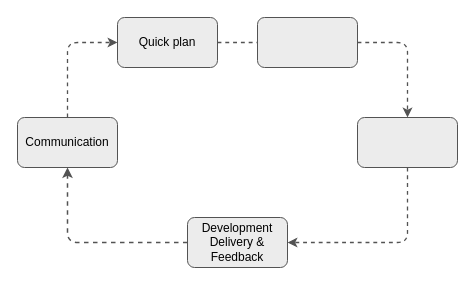
The diagram is 475 pixels wide and 285 high, and some of its shapes have lost their labels. Each missing label, with the centre of its shape:
Construction of prototype: the point at 407,142
Modeling quick design: the point at 307,42
